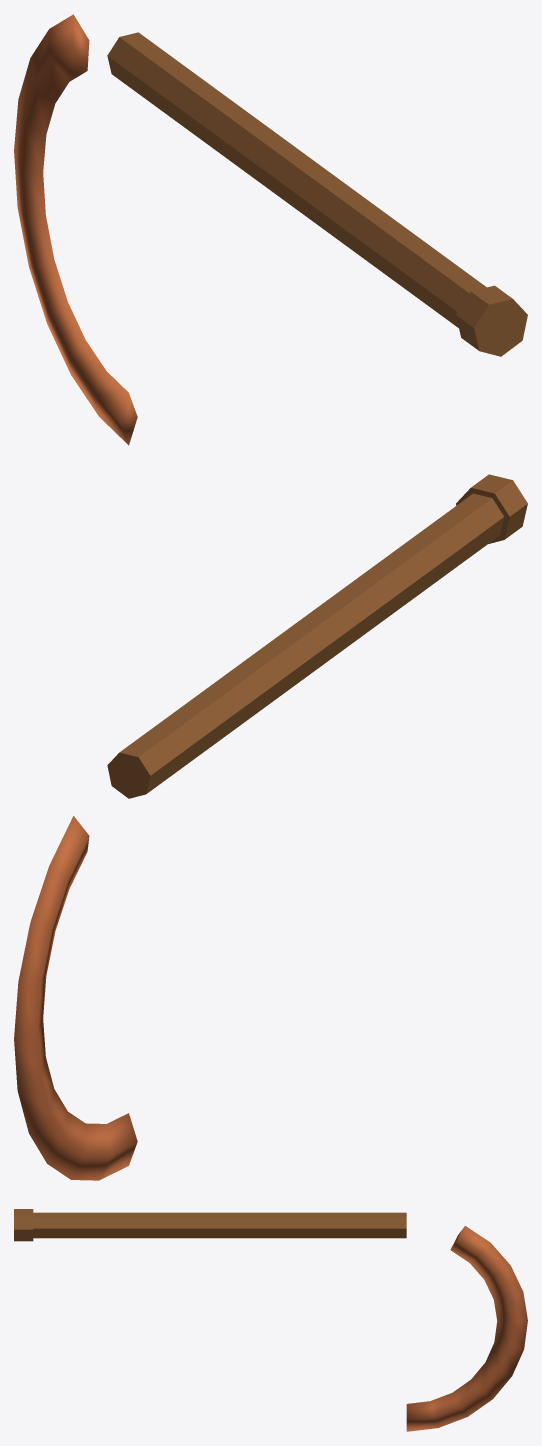
File: Tool_Sickle_Copper.fbx
3 views of the same model, one above another, from view 1: azimuth 30°, elevation 25°; view 2: azimuth 150°, elevation 25°; view 3: azimuth 270°, elevation 25° (orthographic). The views are drawn at different scales.
Parts seen in each view (by area): view 1: Tool_Sickle_Copper; view 2: Tool_Sickle_Copper; view 3: Tool_Sickle_Copper.
Boxes of the visible parts, <box> form: Tool_Sickle_Copper: <box>14,14,527,445</box>; Tool_Sickle_Copper: <box>14,474,527,1180</box>; Tool_Sickle_Copper: <box>14,1209,527,1431</box>.
Bounding box in the file's own units: 1.71 × 12.59 × 26.7.
